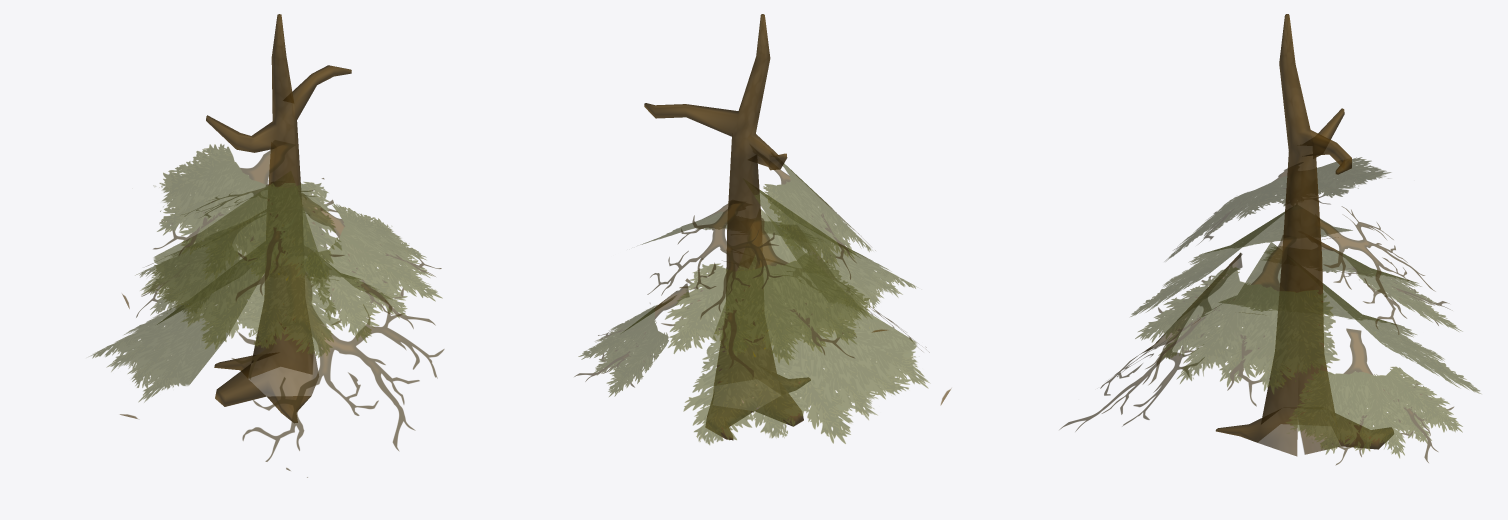
The model's file is pine_tree_halfdead.fbx.
The picture shows the model from 3 angles, left to right: view 1: azimuth 30°, elevation 25°; view 2: azimuth 150°, elevation 25°; view 3: azimuth 270°, elevation 25°; orthographic projection. The views are drawn at different scales.
Visible parts, largest first — view 1: PineTree_1.003, PineTree_1.002; view 2: PineTree_1.003, PineTree_1.002; view 3: PineTree_1.003, PineTree_1.002.
Part boxes in pixels (x1,y1,x2,y2): PineTree_1.003: [89, 140, 444, 477]; PineTree_1.002: [206, 14, 351, 422]; PineTree_1.003: [574, 148, 951, 444]; PineTree_1.002: [644, 14, 810, 440]; PineTree_1.003: [1059, 157, 1480, 465]; PineTree_1.002: [1215, 14, 1393, 456].
Size of the model in its own units: 1823 by 1898 by 1890.
